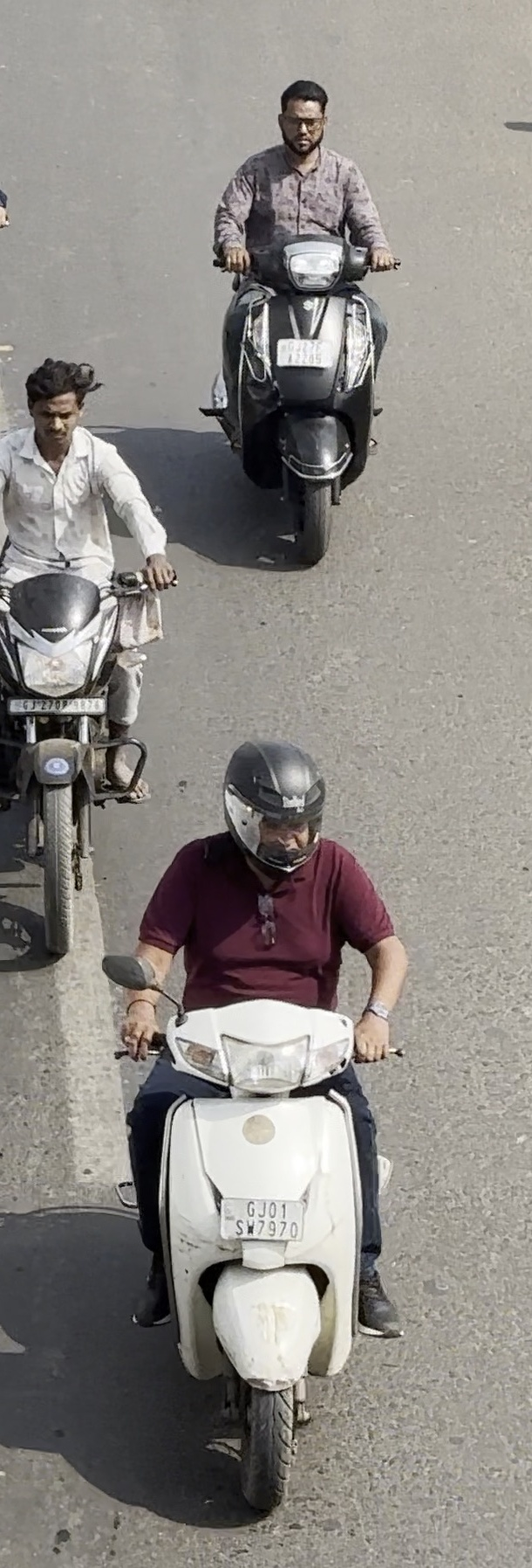BikeWithRider: (78, 724, 438, 1514), (0, 327, 183, 983), (196, 61, 420, 582)
Helmet: (203, 735, 332, 901)
NoHelmet: (10, 350, 112, 469), (268, 75, 343, 160)
